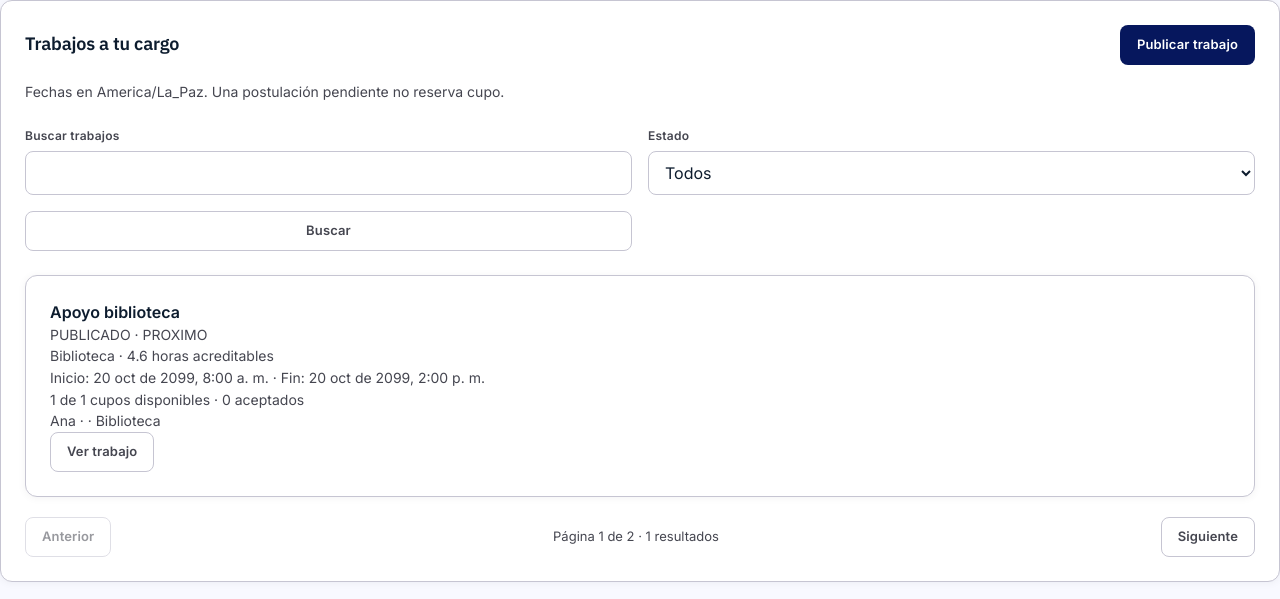
Test: pagina trabajos y muestra el fallo del servidor
The width and height of the screenshot is (1280, 599).
Check: the link "Apoyo biblioteca" is shown, box [50,302,180,322]
Click the button "Siguiente": (1208, 537) [1161,517,1255,557]
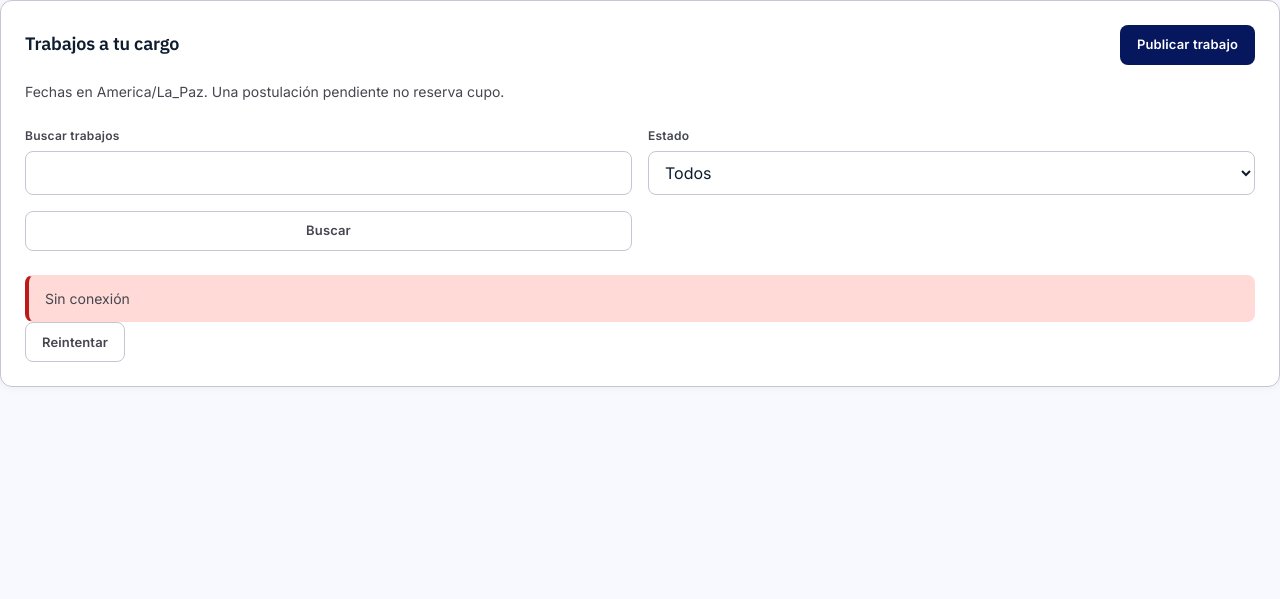
Check: the text "Sin conexión" is shown, box [25,275,1255,322]
